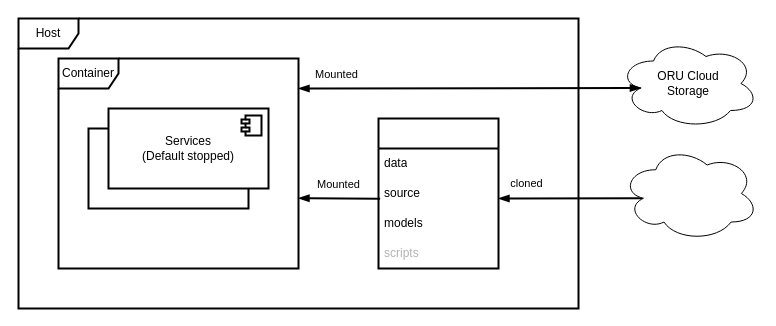
Some shapes in this 776 by 326 pixel diagram are drawn without their labels. The shapes that lost their labels are listed below. From the top down, each one's box as (x1, y1, x2, y2) in pixels, then its label:
(377, 117, 499, 269): Project Folder
(620, 145, 758, 241): ORU GitLab Server
